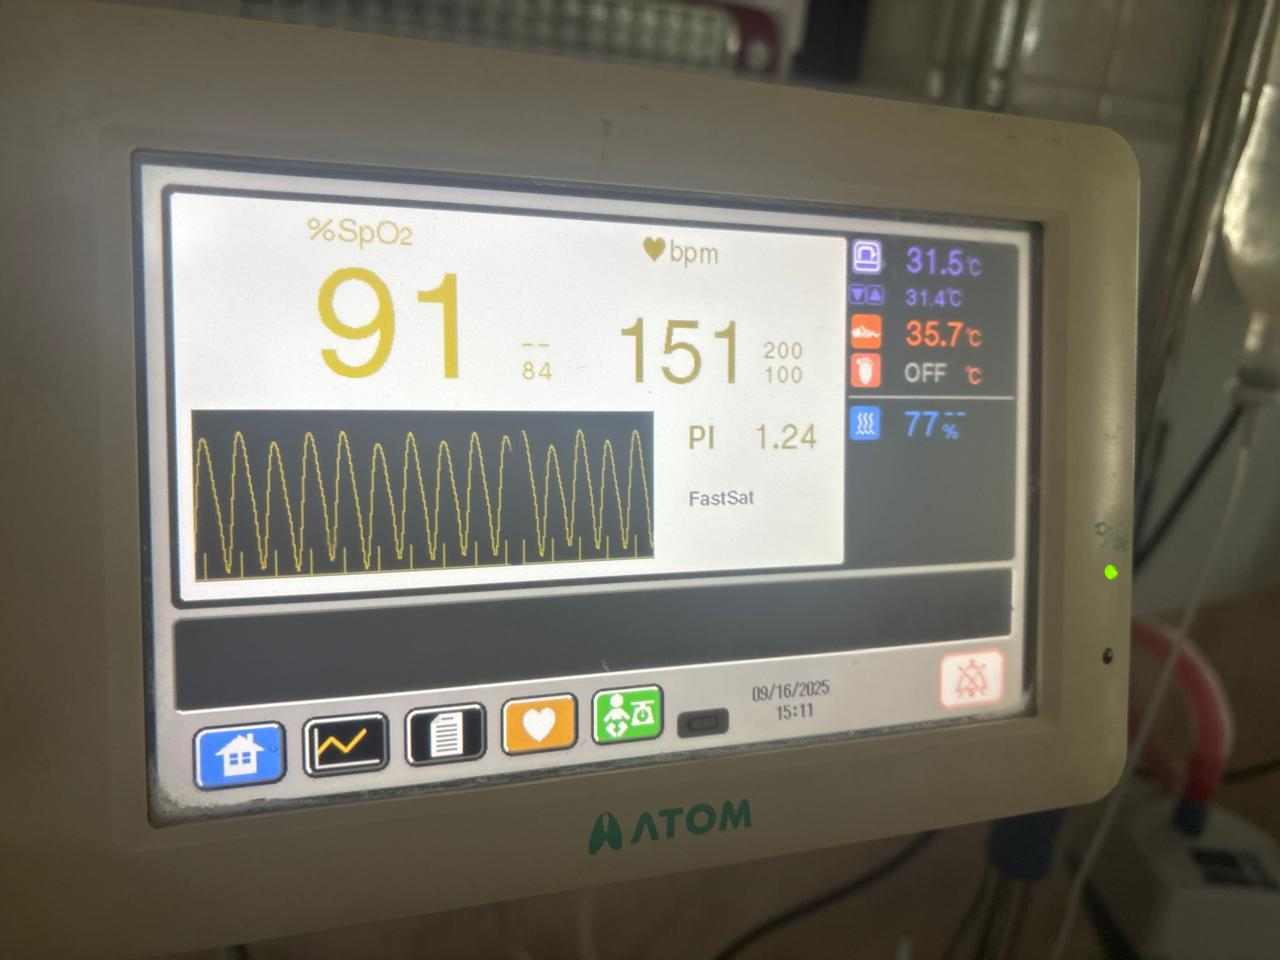heart_rate_value: (609, 306, 757, 395)
humidity_value: (886, 399, 938, 442)
skin_temp_value: (889, 306, 968, 351)
spo2_value: (304, 257, 480, 396)
